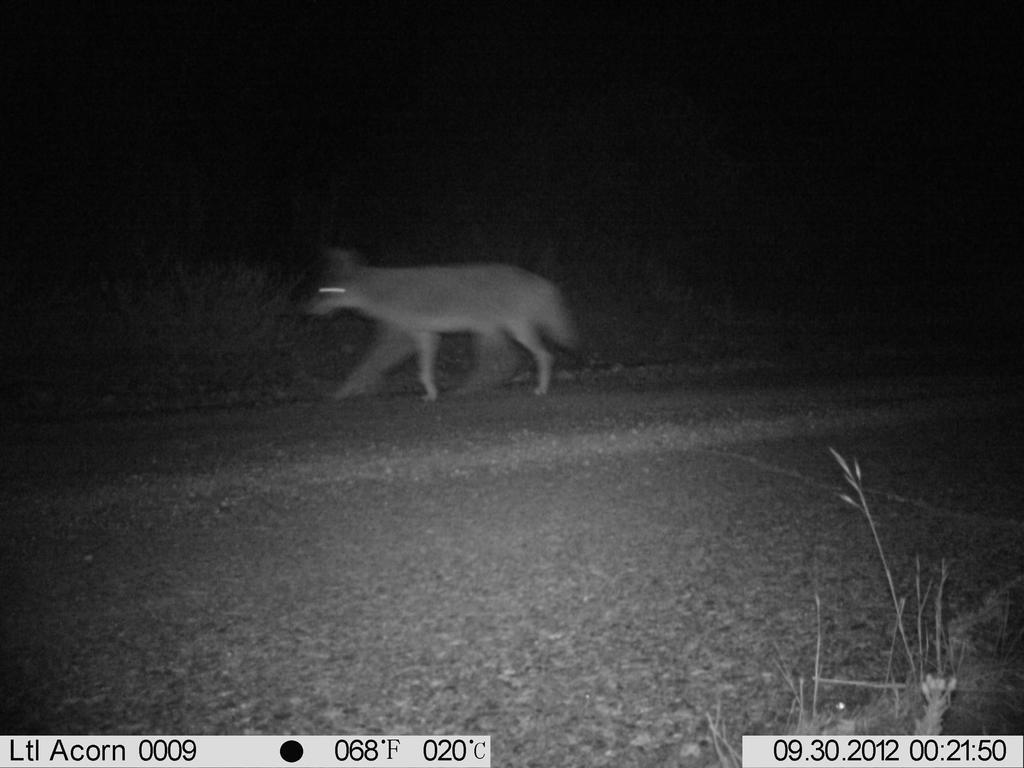coyote: (291, 247, 594, 414)
